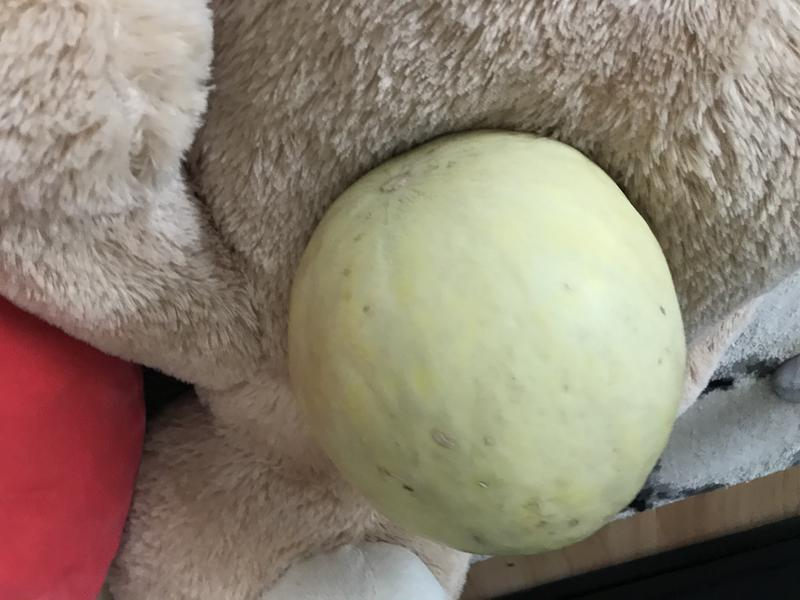honeydew: (280, 113, 700, 571)
